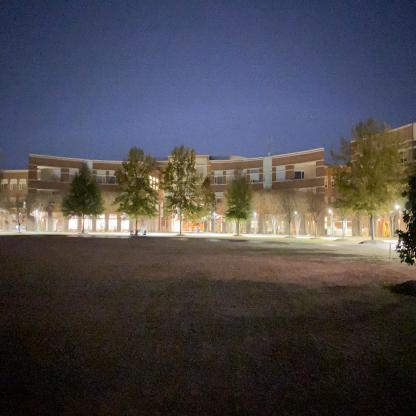eb2: (22, 144, 341, 245)
